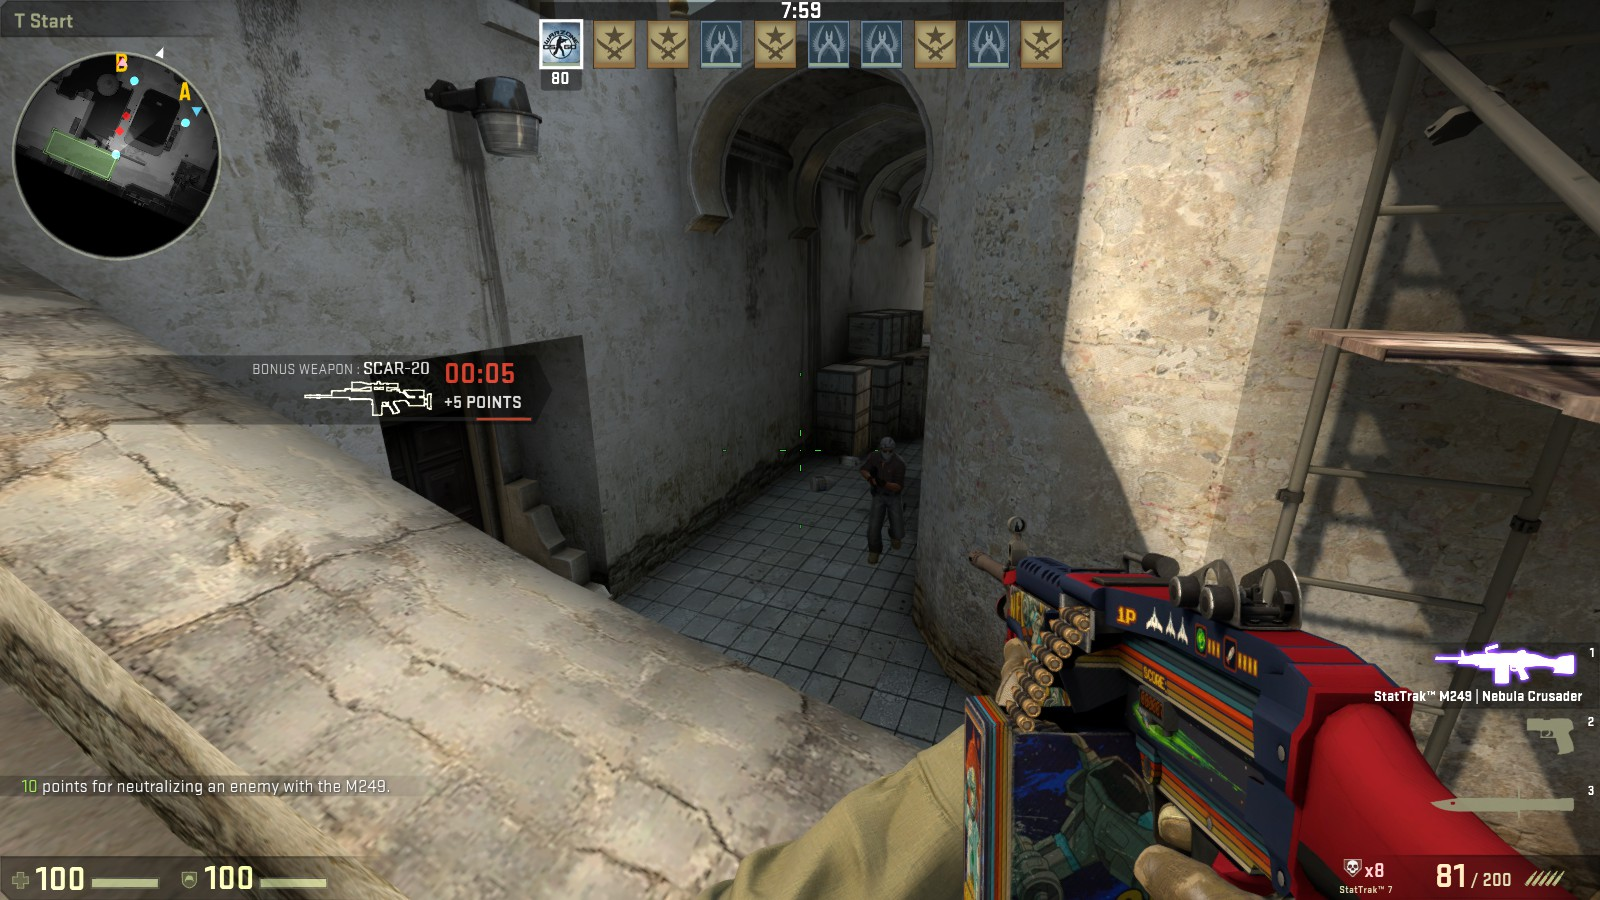t: (864, 436, 907, 564)
th: (871, 434, 902, 470)
